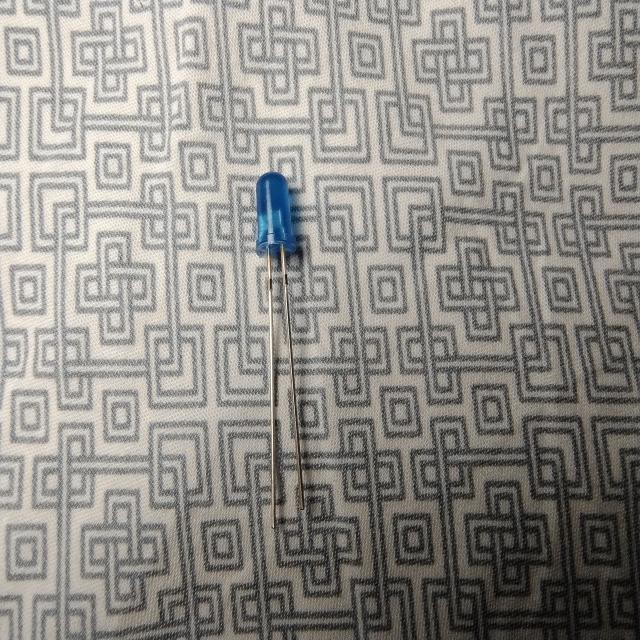blue_led: (255, 170, 297, 258)
